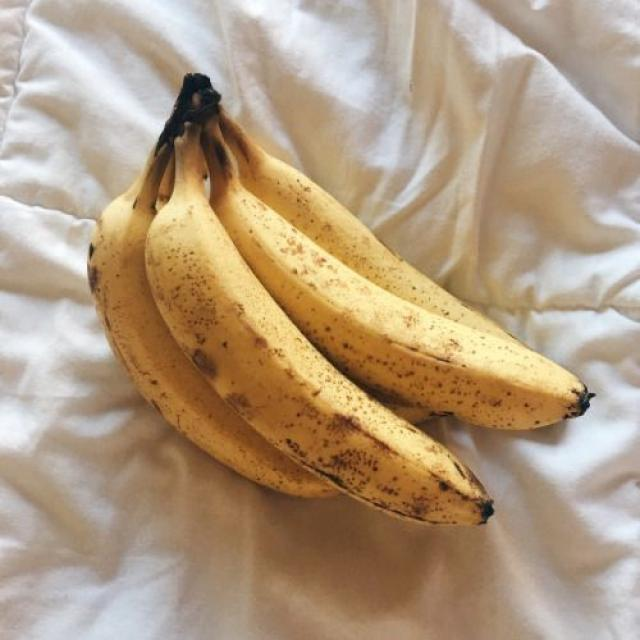unpeal banana: (146, 125, 492, 524), (205, 121, 588, 428), (89, 146, 337, 497), (221, 109, 517, 341)
